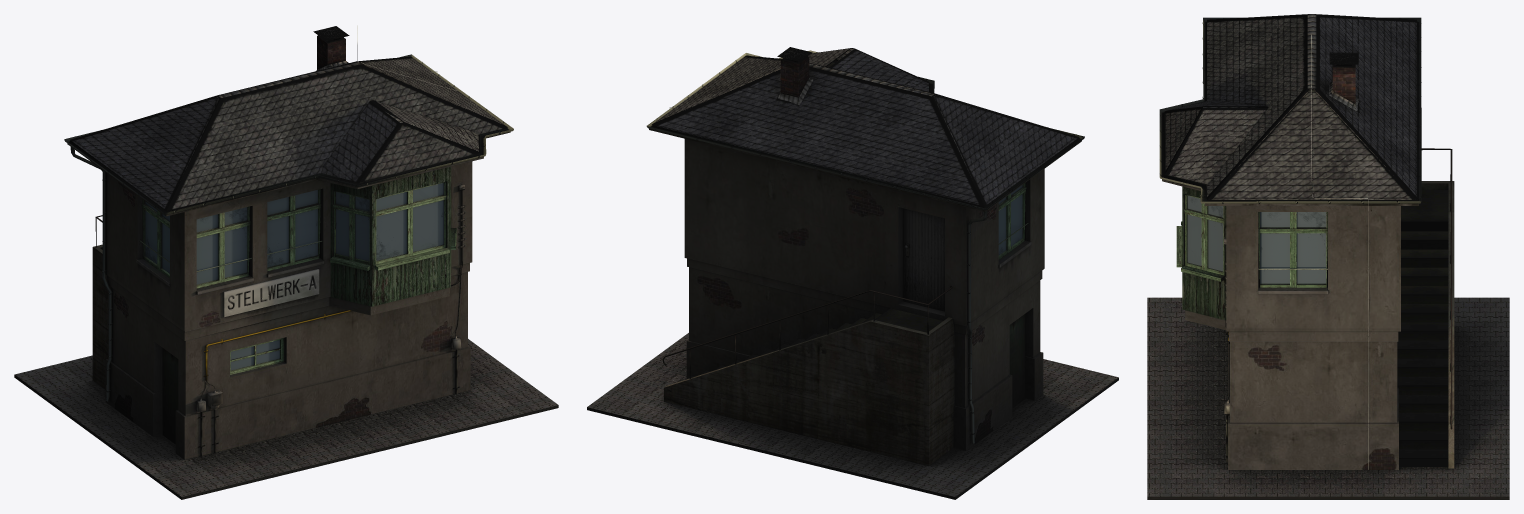
The model's file is station_house.glb.
3 renders of one model, left to right at view 1: azimuth 30°, elevation 25°; view 2: azimuth 150°, elevation 25°; view 3: azimuth 270°, elevation 25°, orthographic. The views are drawn at different scales.
Visible parts, largest first — view 1: stellwerk, dach, CubeBODEN, fensterglas, fensterrahmen, RegenrinneGelaender.001, DetailSchild, trepperand, blitzableiterKabel; view 2: stellwerk, dach, trepperand, CubeBODEN, RegenrinneGelaender.001, fensterglas, fensterrahmen; view 3: stellwerk, dach, CubeBODEN, trepperand, fensterglas, RegenrinneGelaender.001, fensterrahmen, blitzableiterKabel.
Boxes of the visible parts, left/top/right/bottom form: stellwerk: left=67, top=128, right=510, bottom=459; dach: left=70, top=26, right=507, bottom=210; CubeBODEN: left=14, top=339, right=558, bottom=499; fensterglas: left=145, top=182, right=444, bottom=370; fensterrahmen: left=141, top=176, right=456, bottom=374; RegenrinneGelaender.001: left=64, top=54, right=513, bottom=401; DetailSchild: left=196, top=184, right=464, bottom=456; trepperand: left=92, top=244, right=108, bottom=389; blitzableiterKabel: left=139, top=25, right=464, bottom=397; stellwerk: left=649, top=60, right=1081, bottom=450; dach: left=652, top=47, right=1078, bottom=206; trepperand: left=664, top=308, right=954, bottom=465; CubeBODEN: left=587, top=333, right=1118, bottom=499; RegenrinneGelaender.001: left=646, top=50, right=1084, bottom=443; fensterglas: left=998, top=185, right=1022, bottom=255; fensterrahmen: left=998, top=183, right=1026, bottom=259; stellwerk: left=1162, top=22, right=1418, bottom=469; dach: left=1165, top=14, right=1416, bottom=199; CubeBODEN: left=1147, top=297, right=1509, bottom=499; trepperand: left=1397, top=181, right=1454, bottom=468; fensterglas: left=1185, top=194, right=1327, bottom=287; RegenrinneGelaender.001: left=1159, top=17, right=1452, bottom=429; fensterrahmen: left=1176, top=195, right=1327, bottom=287; blitzableiterKabel: left=1225, top=35, right=1368, bottom=469.
Size of the model in its own units: 7.59 by 7.1 by 5.84.
Materials: 9 (9 with a texture image).
